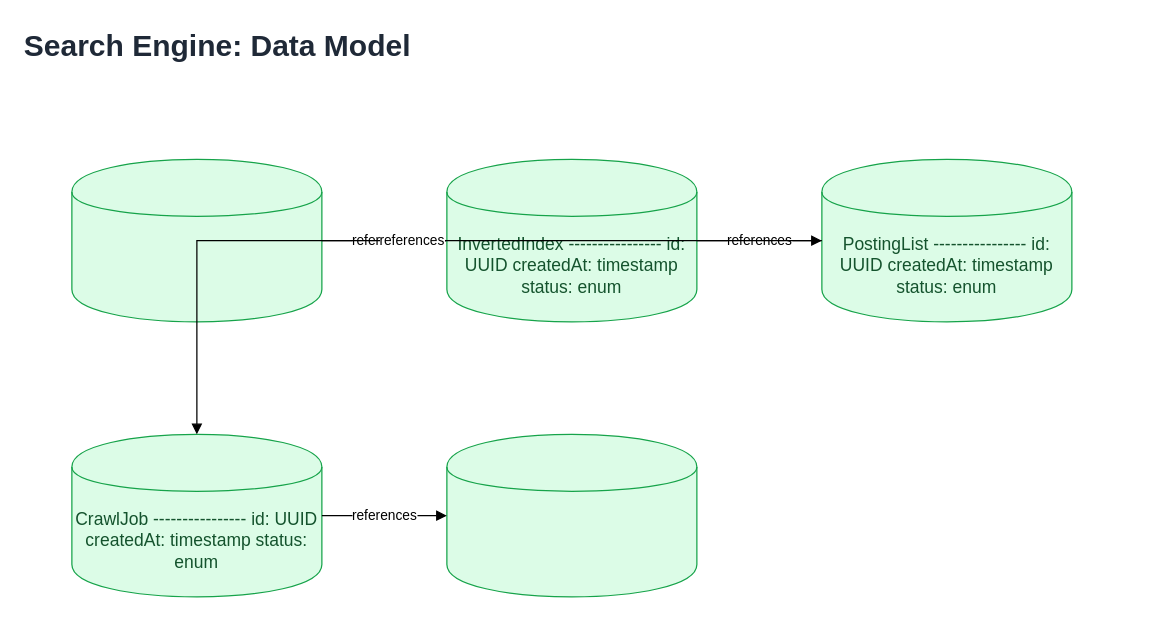
Image size: 1168x619. Some labels were removed from this diagram. Each missing label, with the centre of its shape:
Document ---------------- id: UUID createdAt: timestamp status: enum: pixel 196 240
QueryLog ---------------- id: UUID createdAt: timestamp status: enum: pixel 571 515
